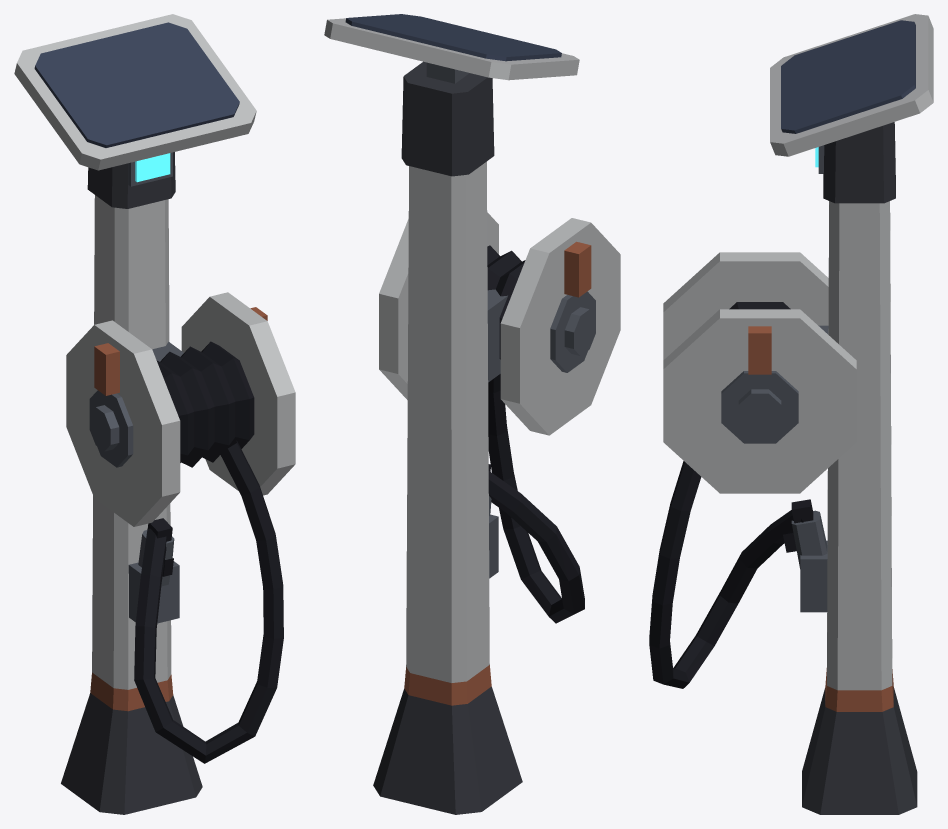
File: rover-charge-station-03535b.glb
3 views of the same model, side by side, from view 1: azimuth 30°, elevation 25°; view 2: azimuth 150°, elevation 25°; view 3: azimuth 270°, elevation 25° (orthographic). The views are drawn at different scales.
Visible parts, largest first — view 1: station-body, drum-reel, charge-lens; view 2: station-body, drum-reel; view 3: station-body, drum-reel.
Boxes of the visible parts, left/top/right/bottom form: station-body: left=14, top=14, right=283, bottom=814; drum-reel: left=66, top=292, right=295, bottom=526; charge-lens: left=135, top=153, right=170, bottom=182; station-body: left=324, top=14, right=584, bottom=814; drum-reel: left=379, top=212, right=620, bottom=435; station-body: left=649, top=14, right=933, bottom=814; drum-reel: left=663, top=252, right=856, bottom=493.
Size of the model in its own units: 0.4 by 1.59 by 0.5568.
